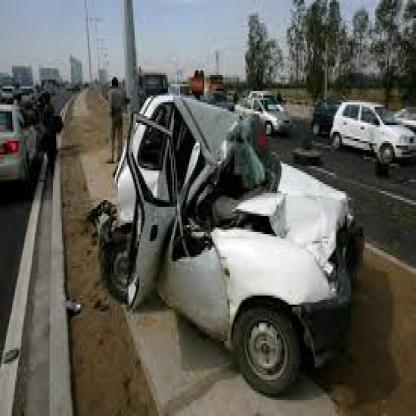accident: (104, 84, 368, 404)
